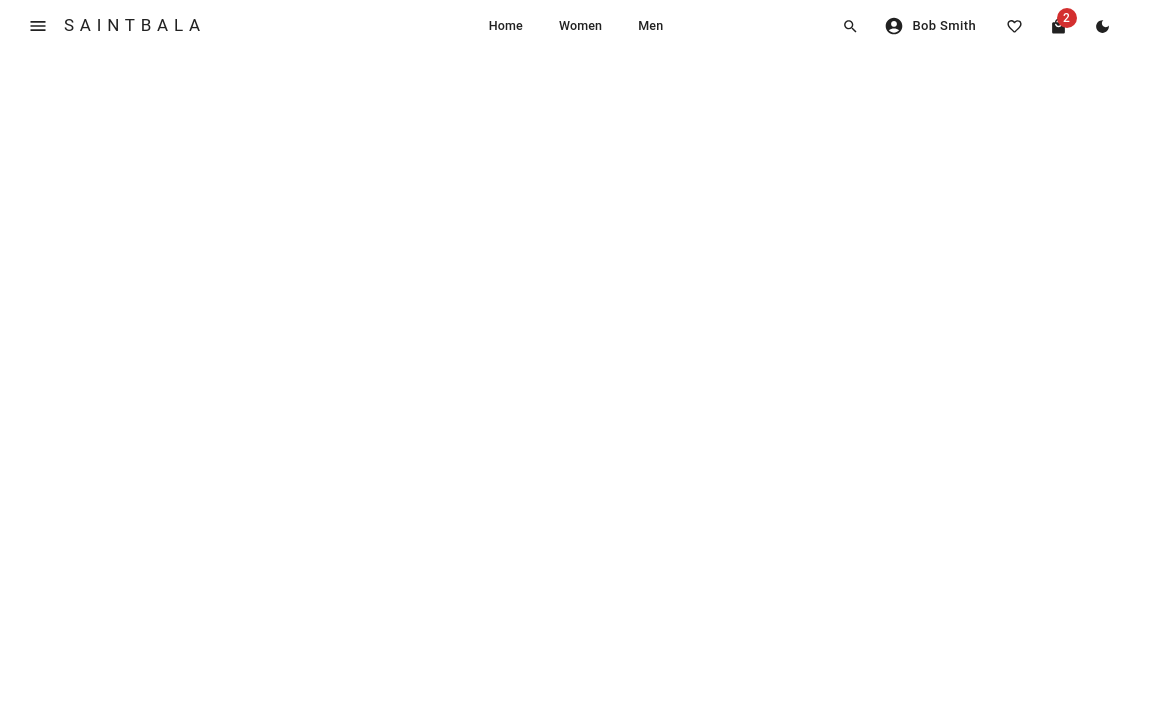
Scenario: CustomersHeaderbar › Mobile viewport › shows unhandled items in drawer when tabbar only handles subset
Click the button named "menu". click: (38, 26)
box: x1=20 y1=8 x2=56 y2=44
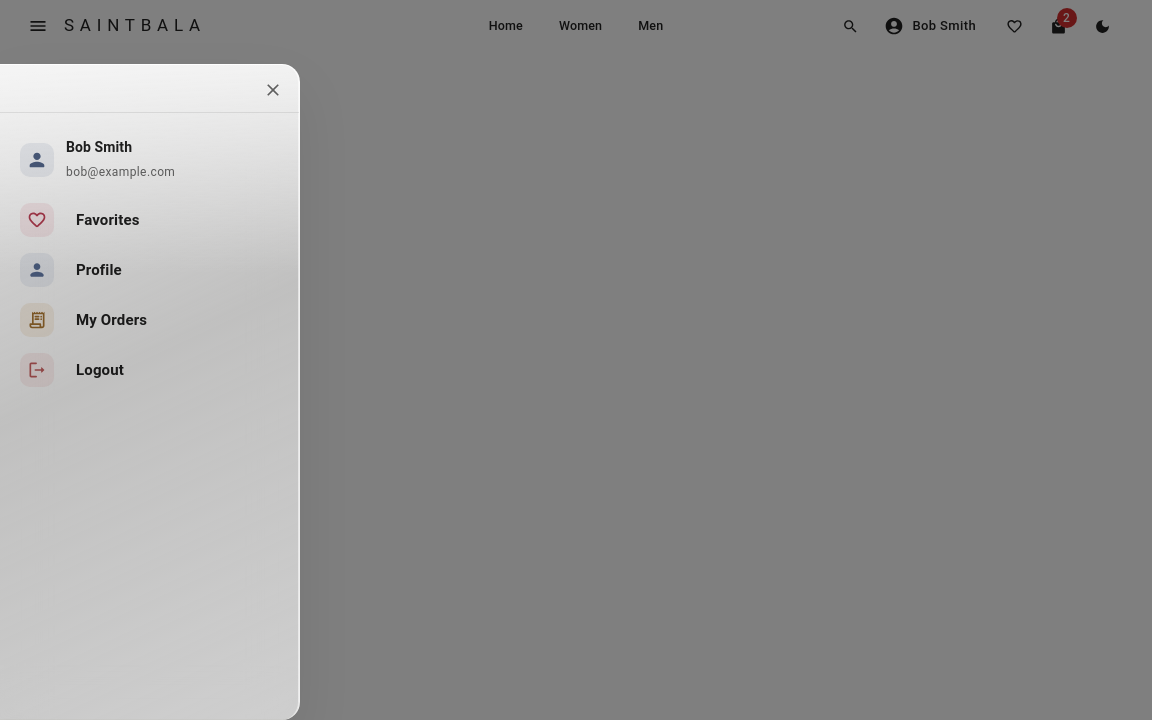
Now the text "Profile" is shown, box x1=76 y1=261 x2=122 y2=279
Now the text "My Orders" is shown, box x1=76 y1=311 x2=147 y2=329
Now the text "Logout" is shown, box x1=76 y1=361 x2=124 y2=379
